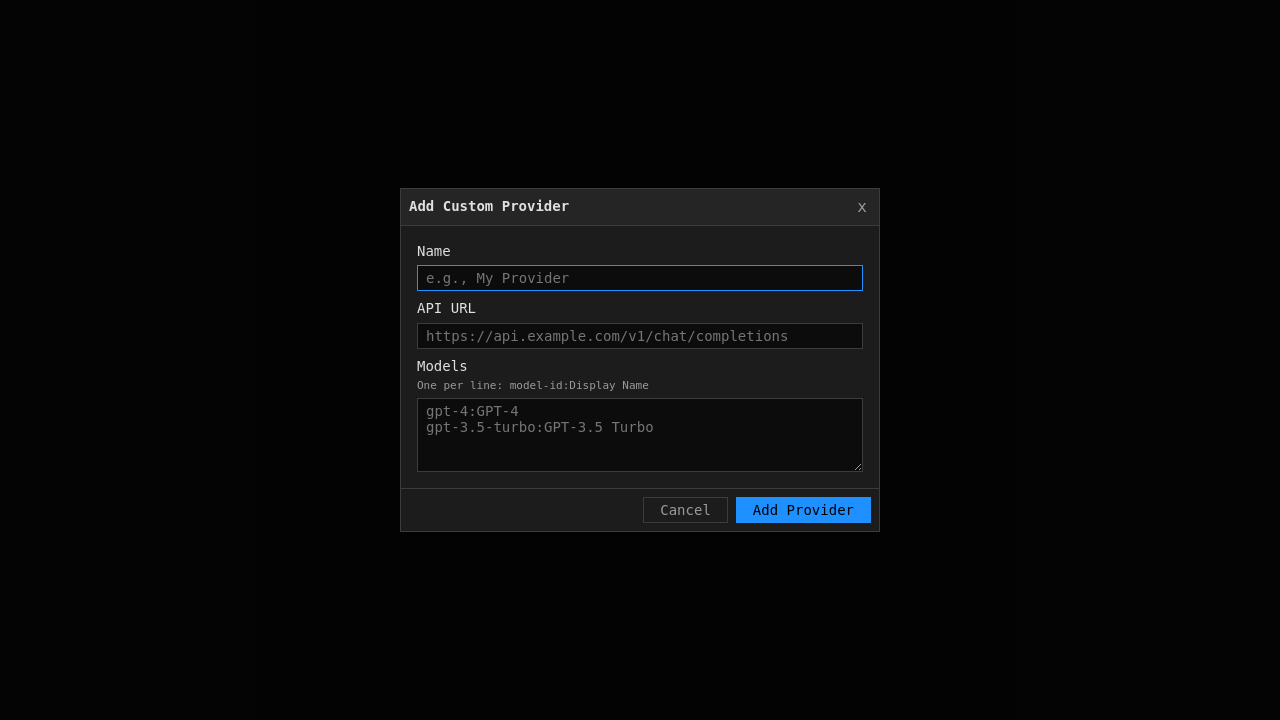
Test: ProviderModal › Add Mode › validates required name
What coordinates should you click on to do the following:
click the button "Add Provider"
I would click on:
 (803, 510)
Its box is [736,497,871,523].
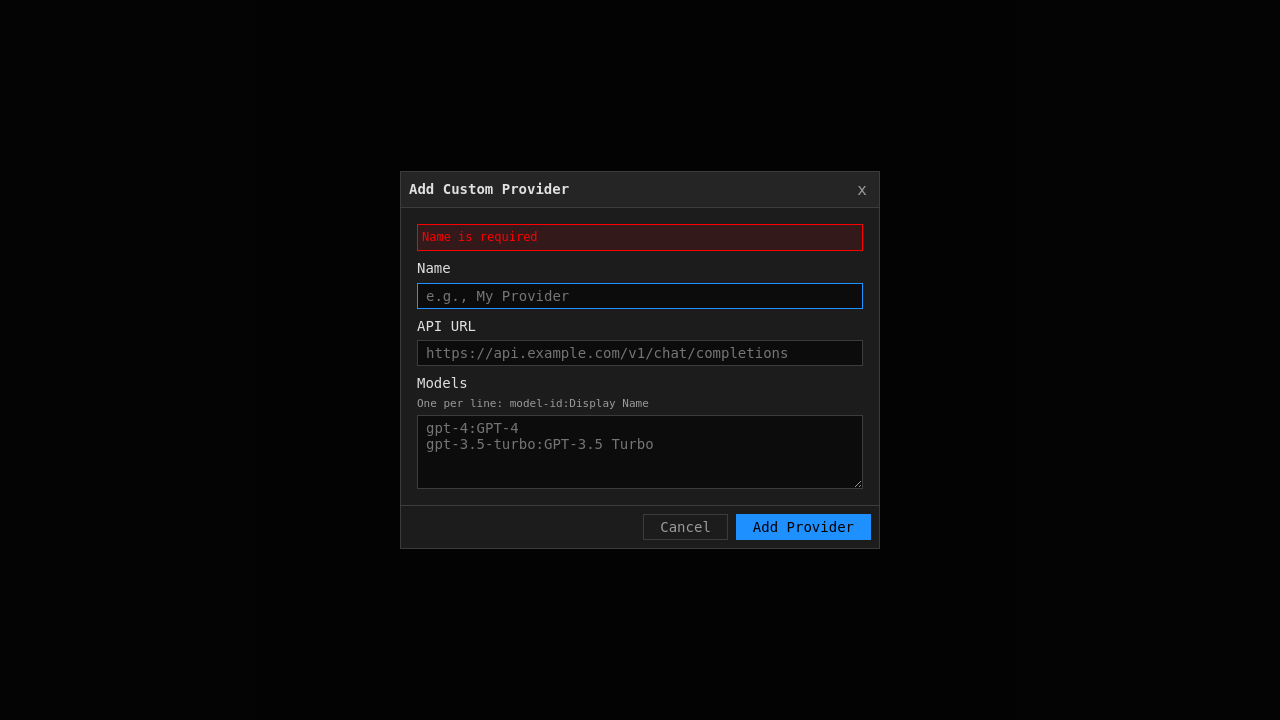
Expected: the text "Name is required" is shown, [417,224,863,251]
